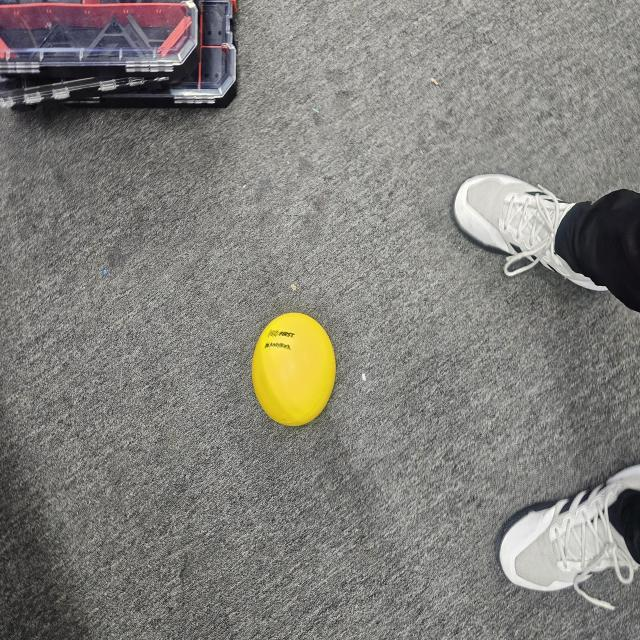Fuel: (247, 304, 339, 434)
